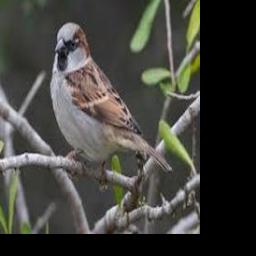Sparrow: (50, 22, 172, 174)
